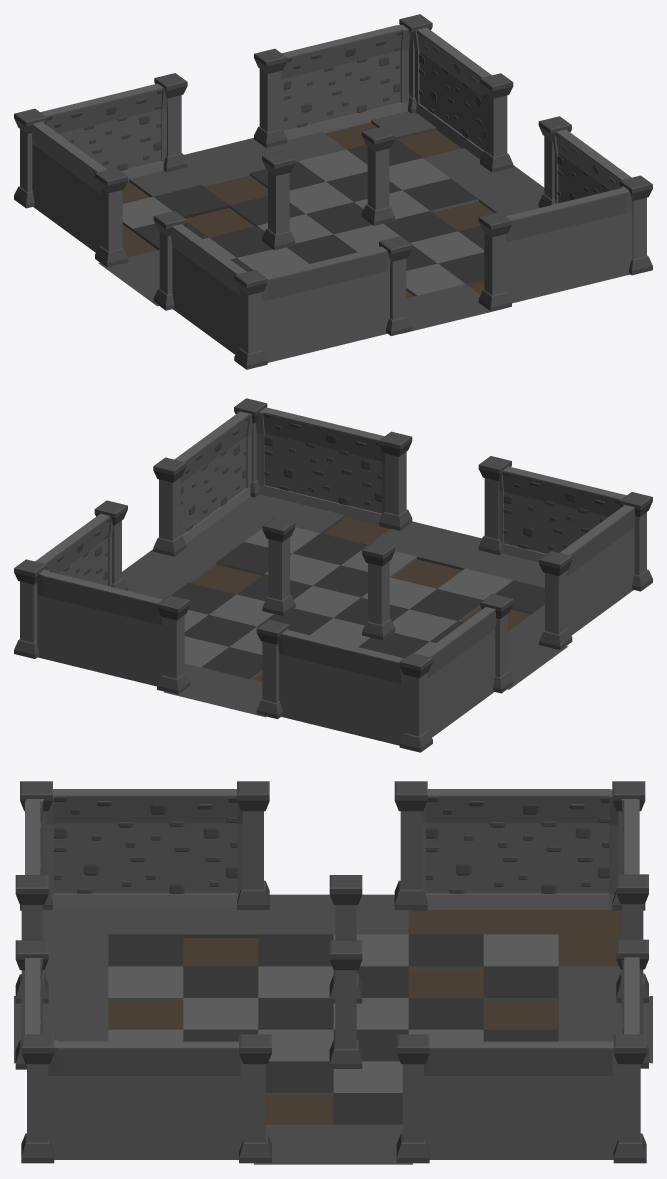
The model's file is StoneRoomVar1.fbx.
3 renders of one model, top to bottom at view 1: azimuth 30°, elevation 25°; view 2: azimuth 150°, elevation 25°; view 3: azimuth 270°, elevation 25°, orthographic. The views are drawn at different scales.
Visible parts, largest first — view 1: StoneWallRoomVar1, StoneFloorRoomVar1; view 2: StoneWallRoomVar1, StoneFloorRoomVar1; view 3: StoneWallRoomVar1, StoneFloorRoomVar1.
Boxes of the visible parts, x1,y1,x2,y2 form: StoneWallRoomVar1: [14, 14, 652, 369]; StoneFloorRoomVar1: [98, 111, 544, 333]; StoneWallRoomVar1: [14, 398, 652, 752]; StoneFloorRoomVar1: [122, 494, 567, 717]; StoneWallRoomVar1: [15, 781, 648, 1163]; StoneFloorRoomVar1: [14, 894, 652, 1164].
Size of the model in its own units: 7.96 by 1.64 by 7.96.
1 material, 1 textured.
